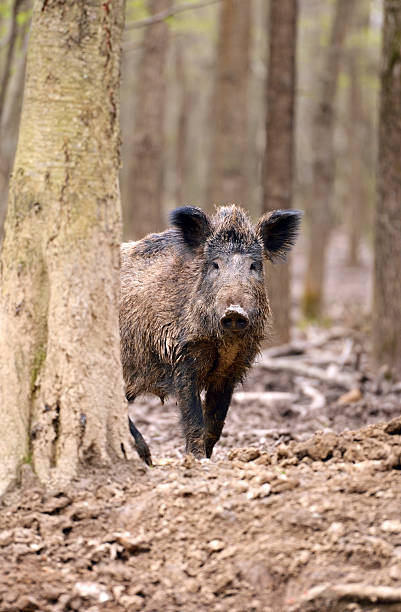pig: (116, 199, 304, 363)
